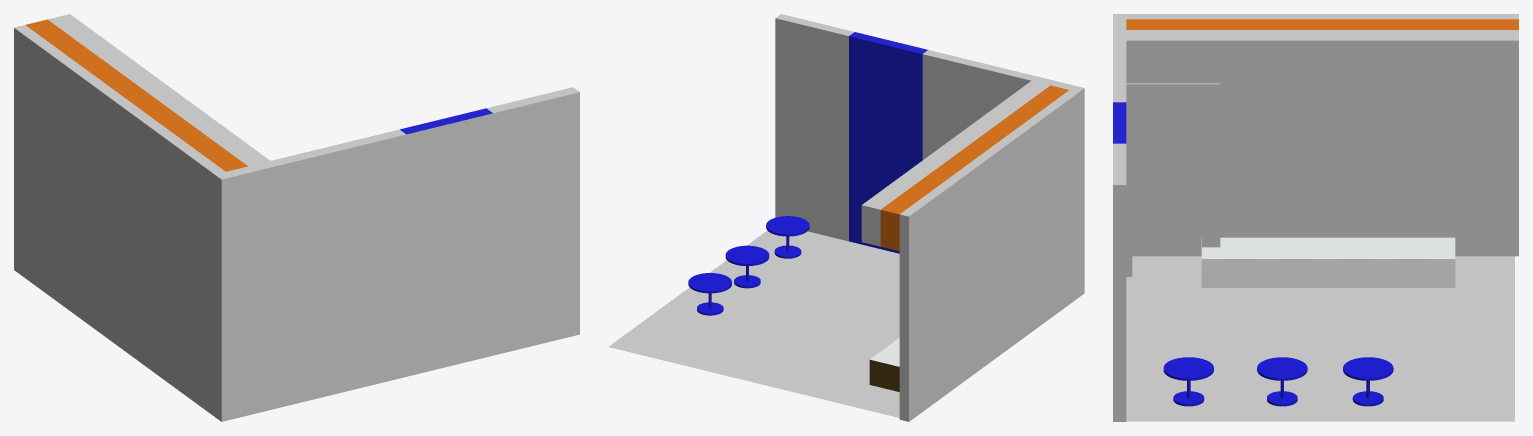
File: slb_internal 1.glb
3 views of the same model, side by side, from view 1: azimuth 30°, elevation 25°; view 2: azimuth 150°, elevation 25°; view 3: azimuth 270°, elevation 25° (orthographic). The views are drawn at different scales.
Visible parts, largest first — view 1: 立方体; view 2: 立方体, 平面, 立方体.001, 桌子1, 桌子3, 桌子2; view 3: 立方体, 平面, 立方体.001, 圆环, 桌子1, 桌子3, 桌子2.
Part boxes in pixels (<box>): 立方体: <box>14,14,579,421</box>; 立方体: <box>775,14,1084,421</box>; 平面: <box>608,230,899,417</box>; 立方体.001: <box>869,338,899,391</box>; 桌子1: <box>766,216,809,258</box>; 桌子3: <box>688,273,731,315</box>; 桌子2: <box>725,245,769,288</box>; 立方体: <box>1113,14,1518,421</box>; 平面: <box>1126,256,1514,421</box>; 立方体.001: <box>1201,237,1455,287</box>; 圆环: <box>1126,83,1220,276</box>; 桌子1: <box>1163,357,1213,406</box>; 桌子3: <box>1343,357,1393,406</box>; 桌子2: <box>1257,357,1307,406</box>.
Size of the model in its own units: 16.01 by 10.35 by 16.06.
